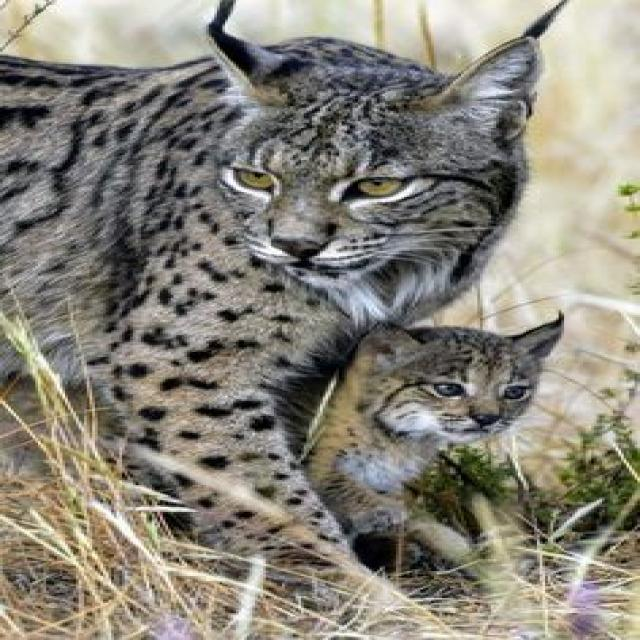Carnivorous: (0, 2, 545, 640), (301, 317, 567, 581)
